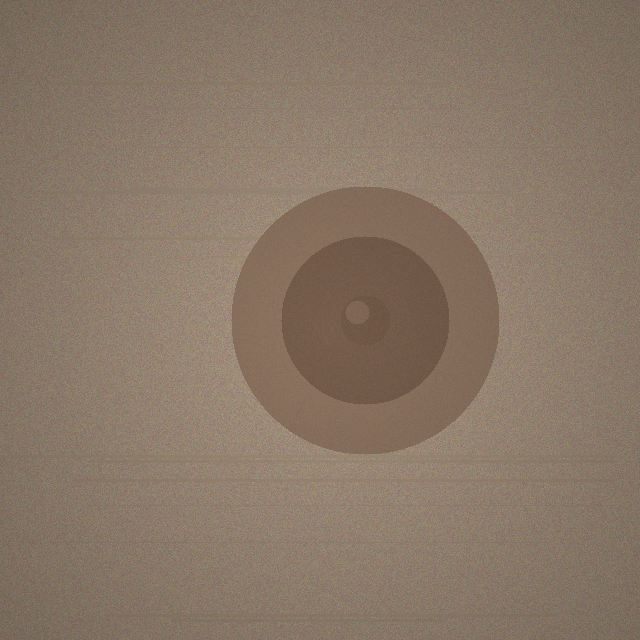good: (231, 186, 499, 454)
